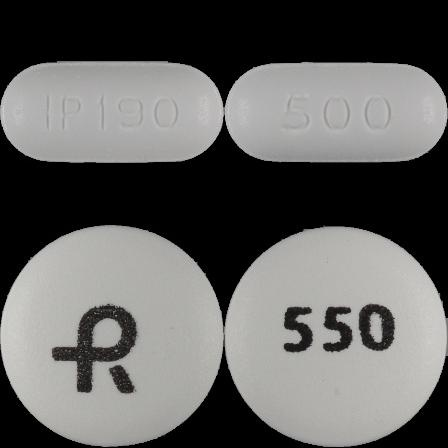10544-922: (0, 0, 224, 224)
